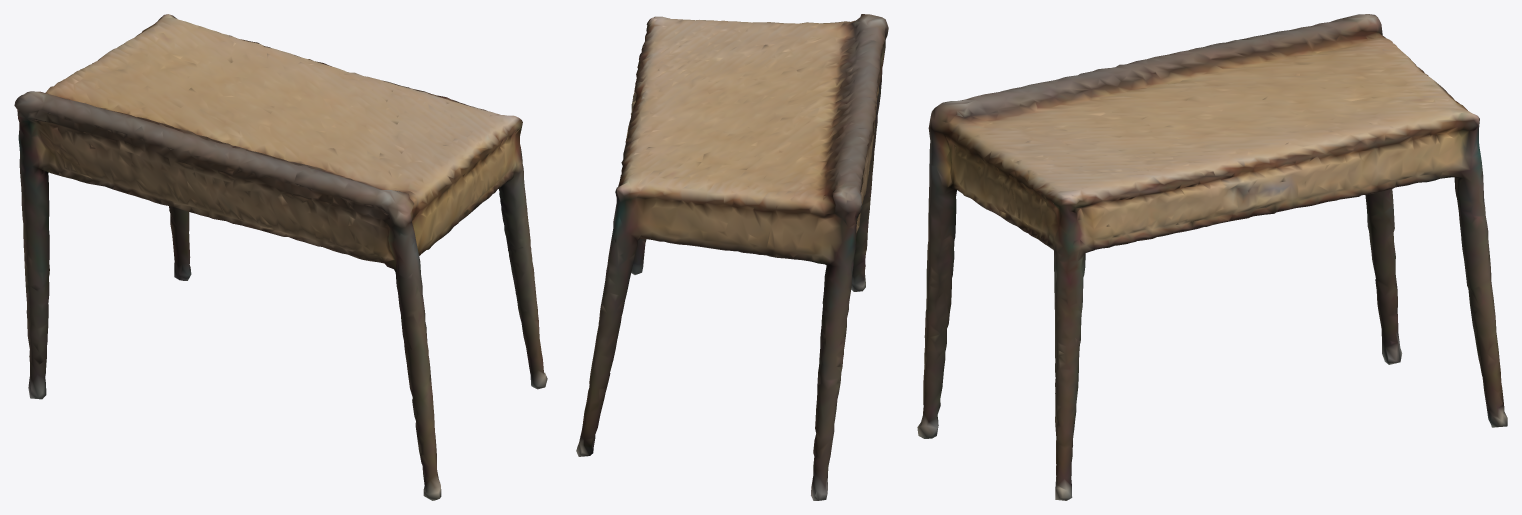
3 renders of one model, left to right at view 1: azimuth 30°, elevation 25°; view 2: azimuth 150°, elevation 25°; view 3: azimuth 270°, elevation 25°, orthographic. The views are drawn at different scales.
Visible parts, largest first — view 1: geometry_0; view 2: geometry_0; view 3: geometry_0.
Boxes of the visible parts, left/top/right/bottom form: geometry_0: left=14, top=14, right=547, bottom=500; geometry_0: left=576, top=14, right=888, bottom=500; geometry_0: left=917, top=14, right=1507, bottom=500.
Bounding box in the file's own units: 0.9669 × 0.76 × 1.2.
